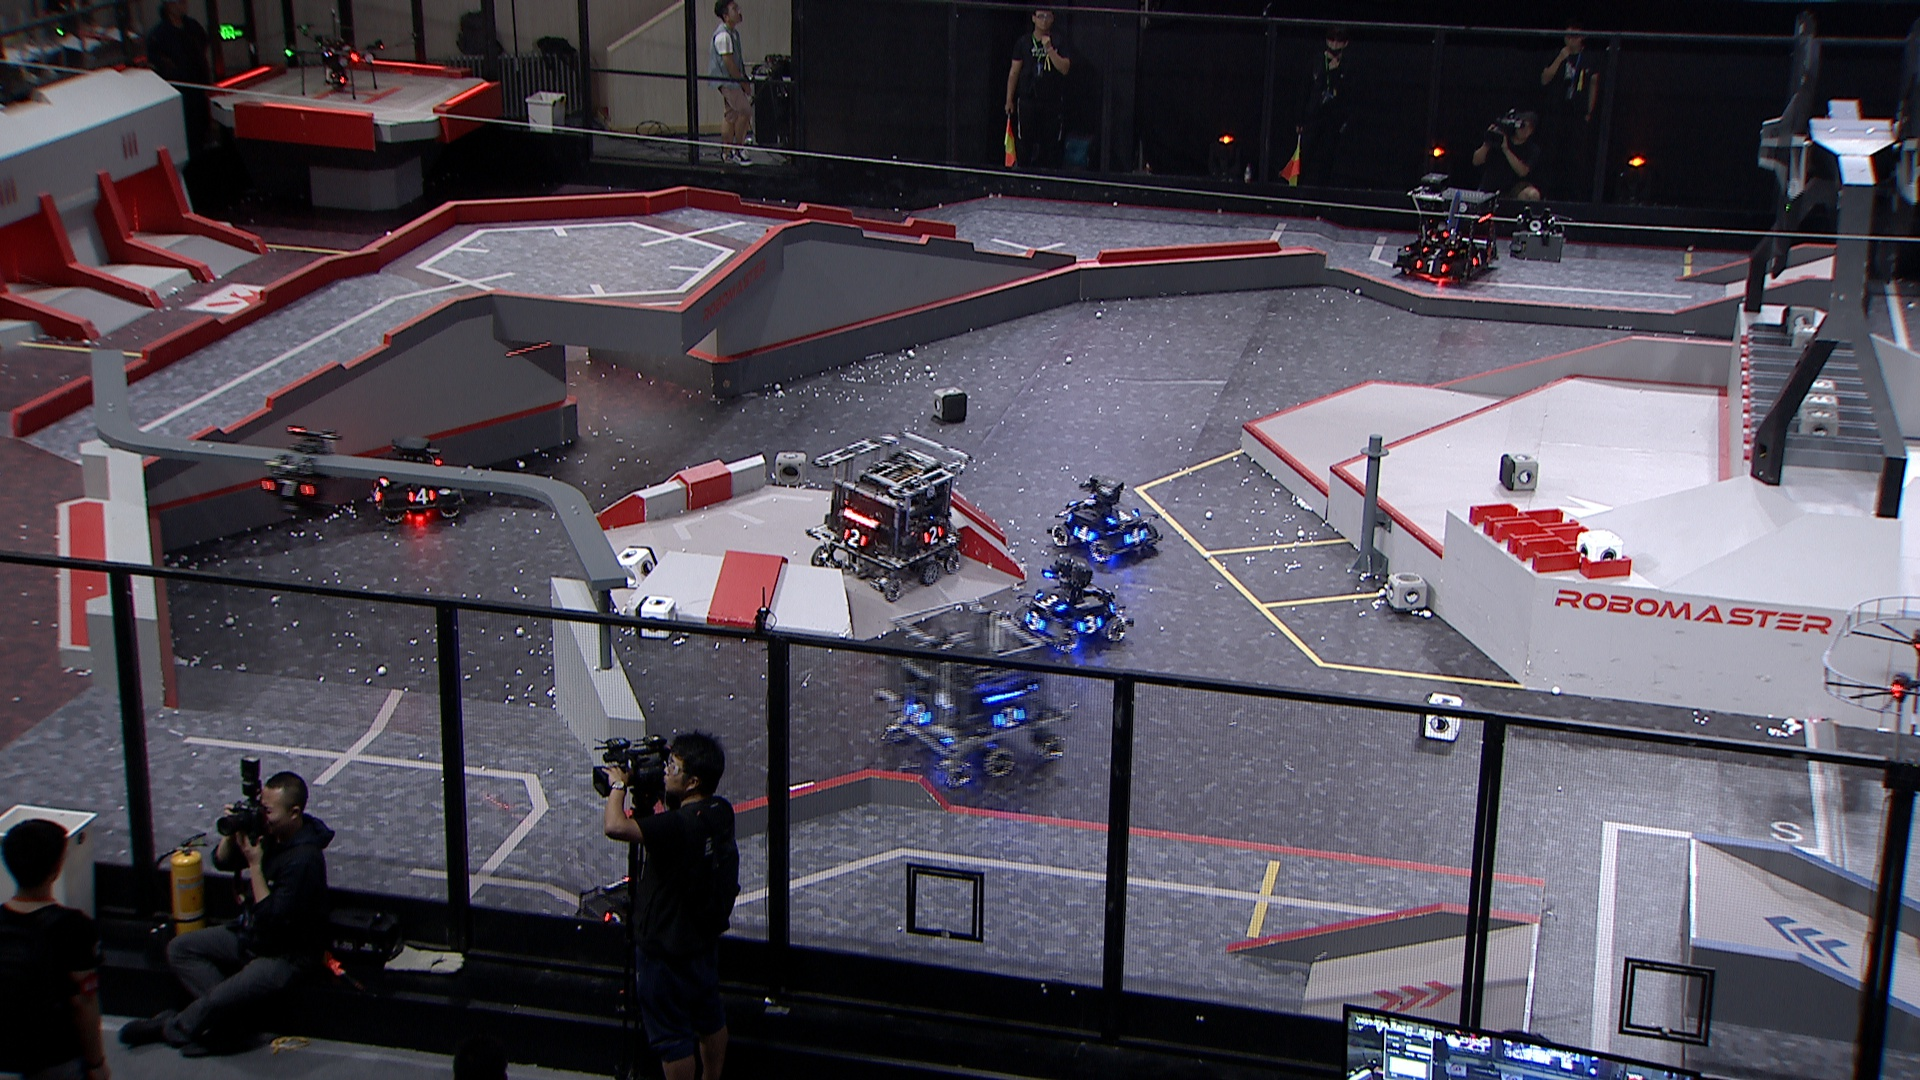armor: (258, 477, 316, 498), (993, 704, 1027, 732), (902, 700, 931, 731), (1105, 506, 1141, 526), (1073, 616, 1106, 636), (1033, 593, 1067, 612), (1414, 257, 1448, 276), (406, 487, 438, 506), (841, 526, 868, 550), (1072, 524, 1098, 546), (1120, 526, 1149, 546), (1022, 611, 1046, 632), (920, 526, 945, 546), (1419, 245, 1460, 257), (367, 484, 385, 502), (1468, 249, 1487, 266)
car: (874, 597, 1069, 787), (807, 431, 971, 603), (1395, 173, 1505, 287), (1013, 553, 1133, 654), (1048, 475, 1163, 564), (363, 433, 465, 527)
watcher: (255, 423, 348, 526)
